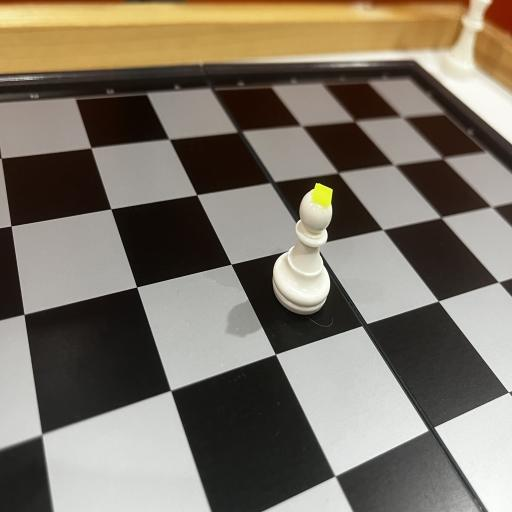White Pawn: (272, 183, 333, 315)
